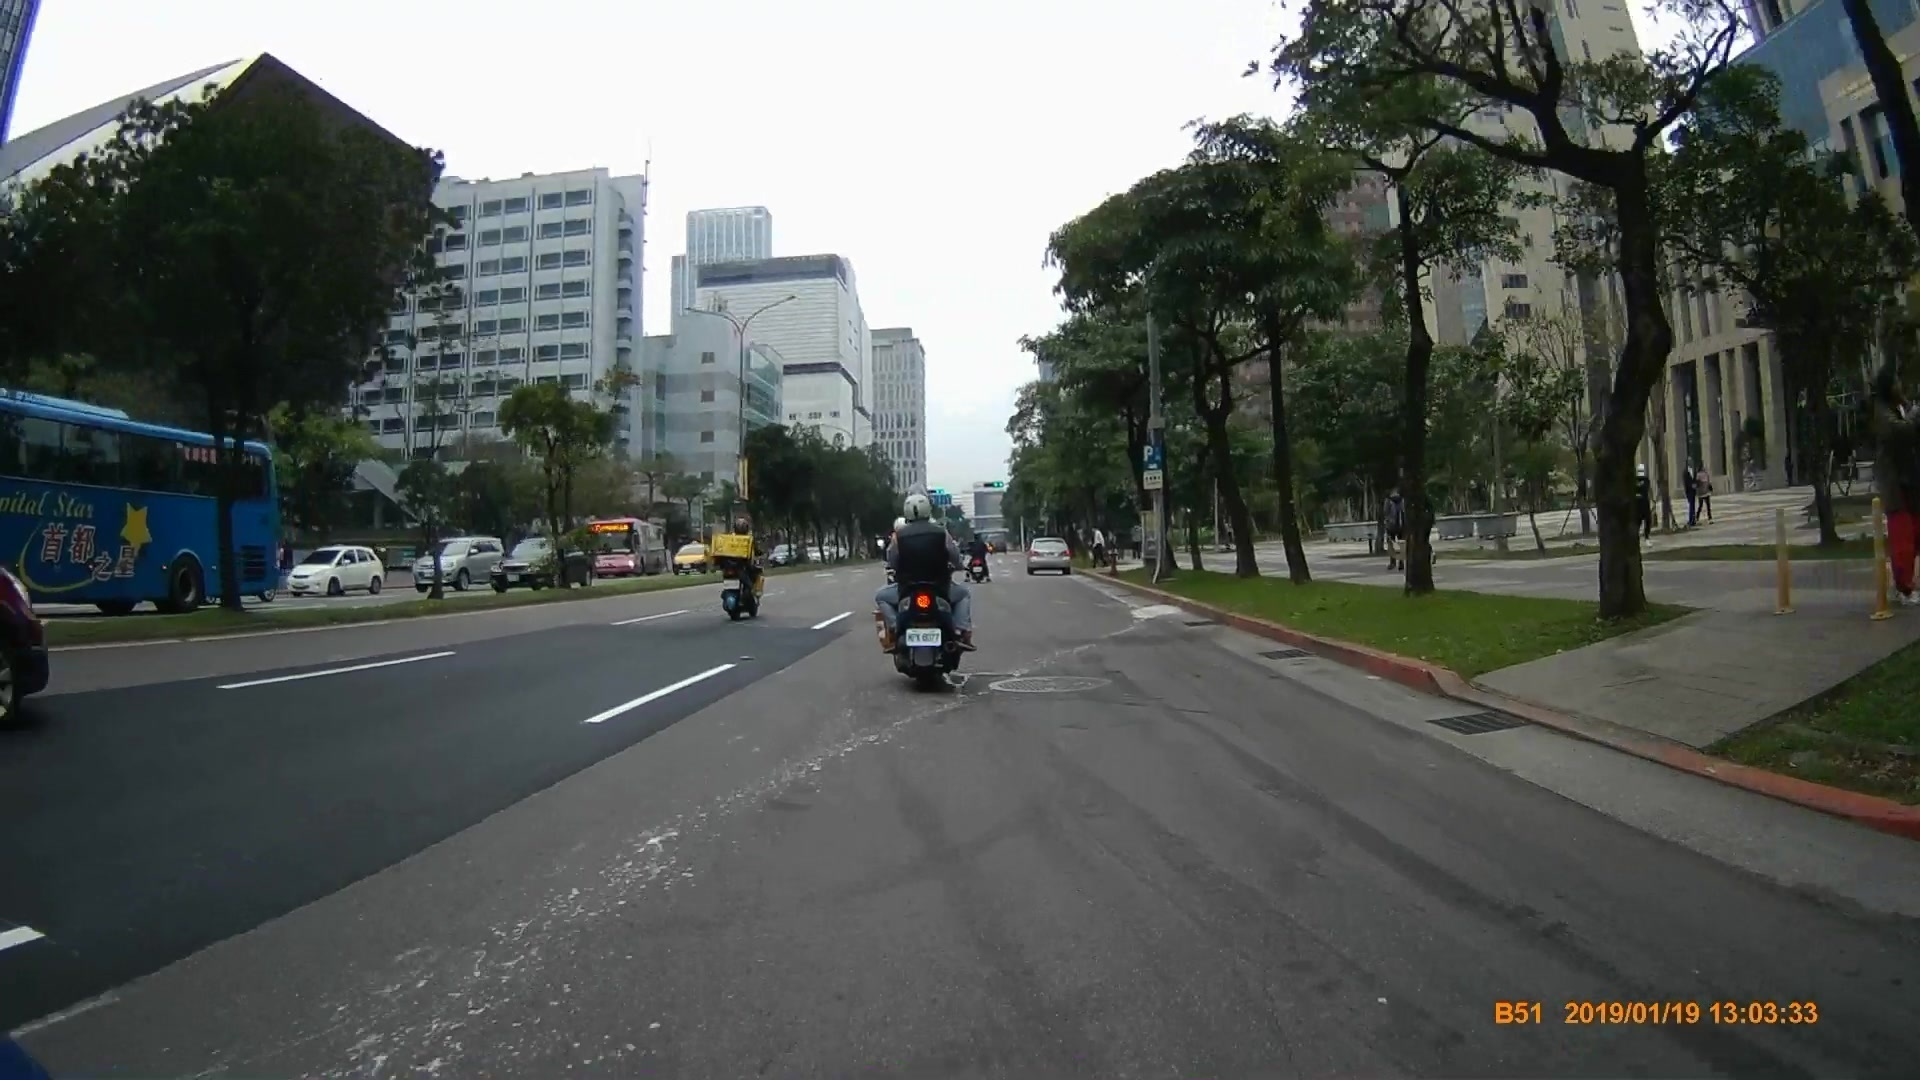License_plate: (904, 627, 942, 648)
